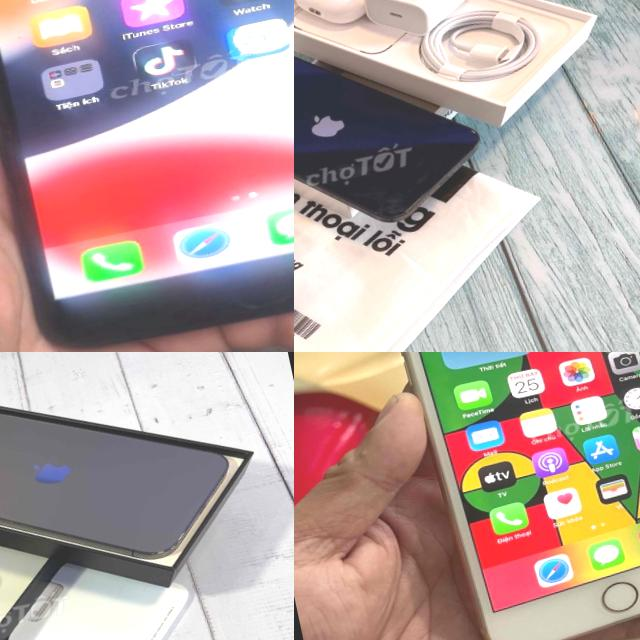gen_12_13: (0, 352, 249, 618), (294, 12, 494, 264)
gen_7_8: (0, 0, 294, 346), (400, 352, 640, 640)
